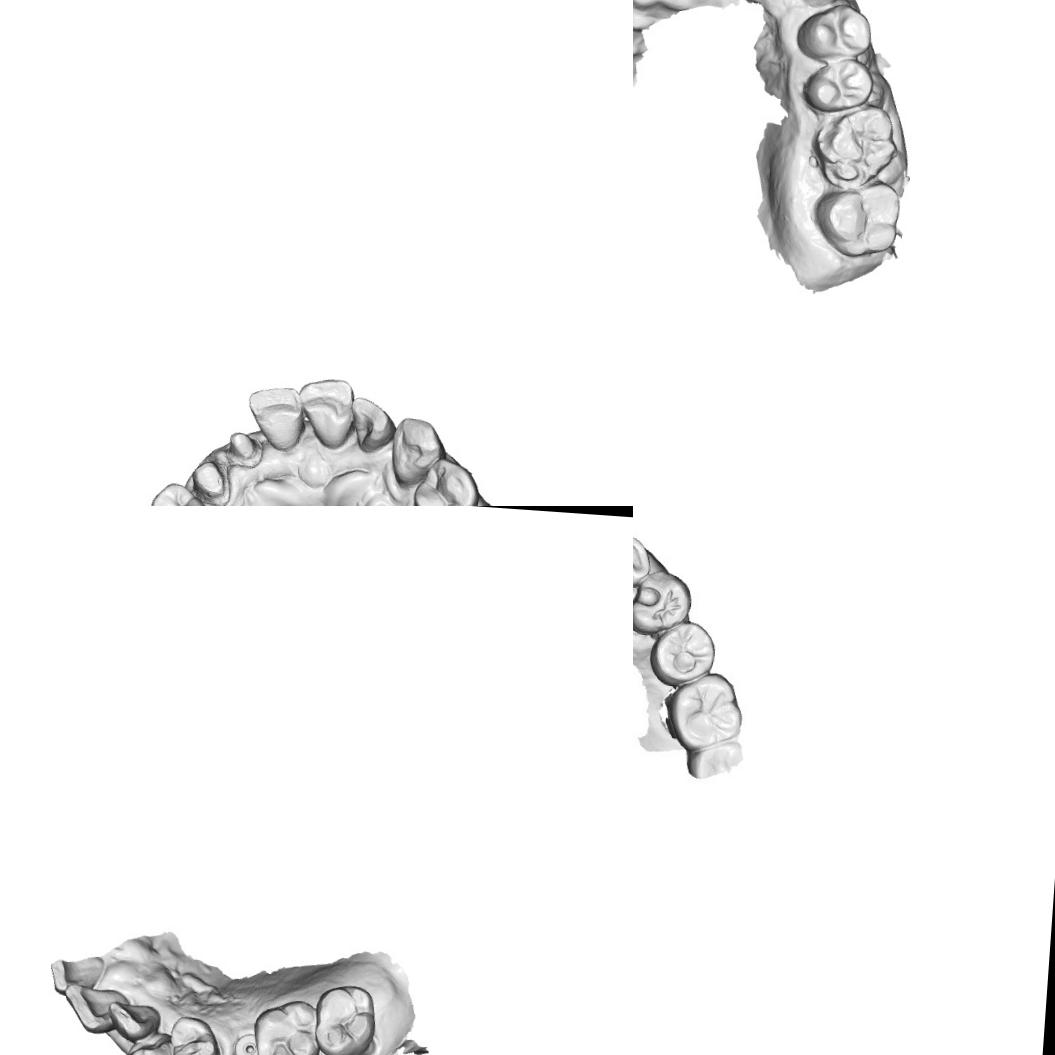canine: (388, 414, 449, 491), (124, 1029, 179, 1055), (633, 530, 653, 597)
crown: (187, 458, 232, 506), (224, 422, 266, 469)
implant: (231, 1030, 262, 1055)
incisor: (294, 376, 356, 450), (243, 384, 306, 454), (60, 984, 130, 1036), (346, 395, 398, 455), (104, 999, 162, 1042), (47, 952, 103, 996)
molar: (811, 102, 900, 190), (812, 178, 902, 260), (672, 674, 742, 751), (311, 981, 379, 1055), (248, 996, 323, 1055)
premolar: (794, 3, 877, 62), (800, 54, 876, 114), (409, 455, 484, 506), (654, 621, 713, 678), (633, 572, 689, 632), (165, 1014, 225, 1055), (145, 478, 211, 506)
